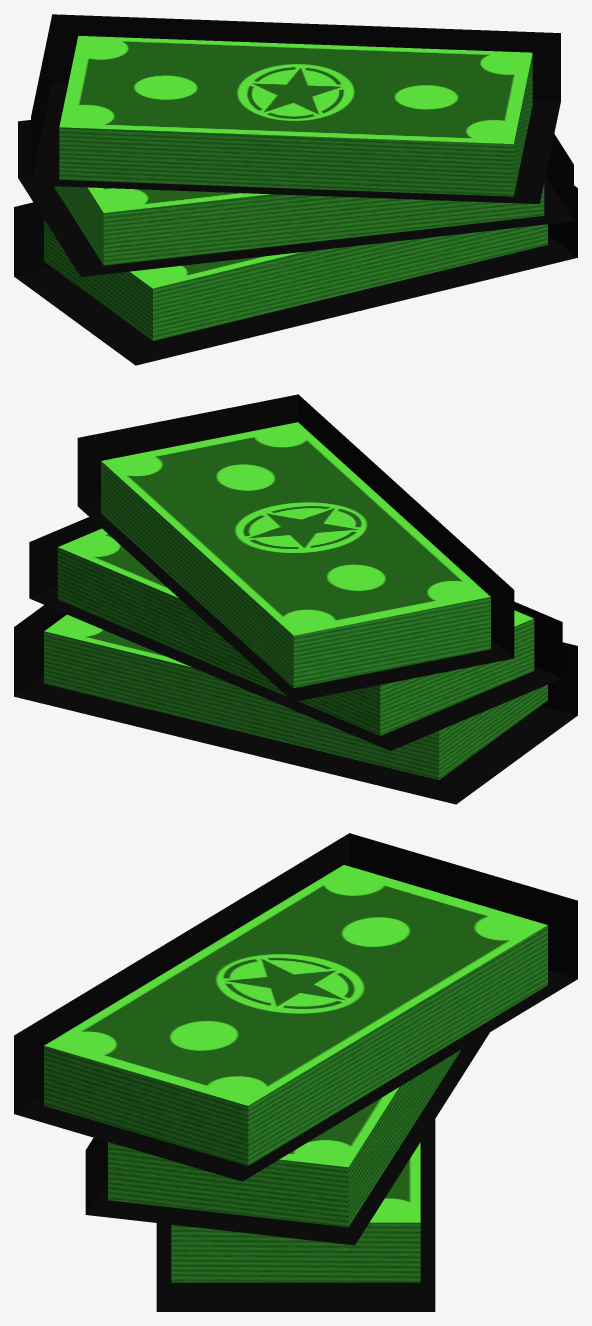
Rendered from CityCollectible.FBX.
The picture shows the model from 3 angles, top to bottom: view 1: azimuth 30°, elevation 25°; view 2: azimuth 150°, elevation 25°; view 3: azimuth 270°, elevation 25°; orthographic projection. The views are drawn at different scales.
Visible parts, largest first — view 1: Stack; view 2: Stack; view 3: Stack.
Part boxes in pixels (x1=…): Stack: x1=14, y1=14, x2=577, y2=365; Stack: x1=14, y1=394, x2=577, y2=804; Stack: x1=14, y1=833, x2=577, y2=1311.
Size of the model in its own units: 391 by 149 by 345.
